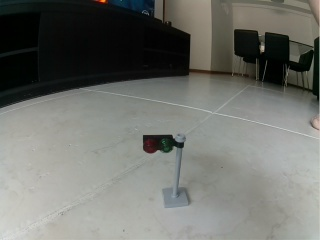Green Traffic Light: (142, 134, 190, 208)
